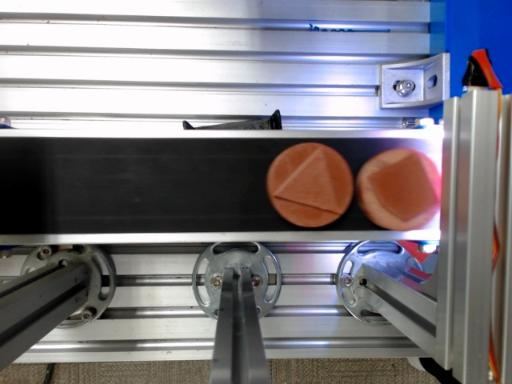Brown_Waper: (267, 142, 353, 227), (357, 148, 440, 230)
